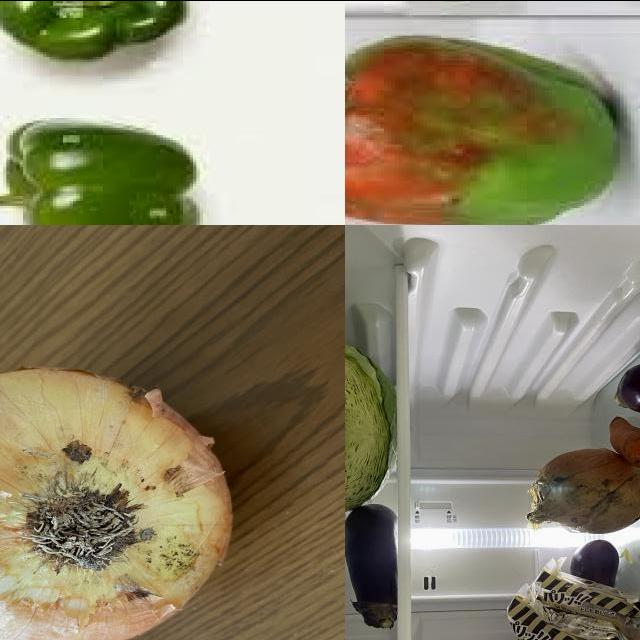bell_pepper: (346, 30, 640, 225), (1, 106, 230, 225), (1, 1, 221, 60)
cabbage: (346, 331, 395, 518)
carrot: (605, 421, 640, 470)
eggplant: (346, 502, 398, 630), (569, 542, 617, 588), (612, 359, 640, 412)
onion: (1, 374, 239, 640), (527, 445, 640, 537)
